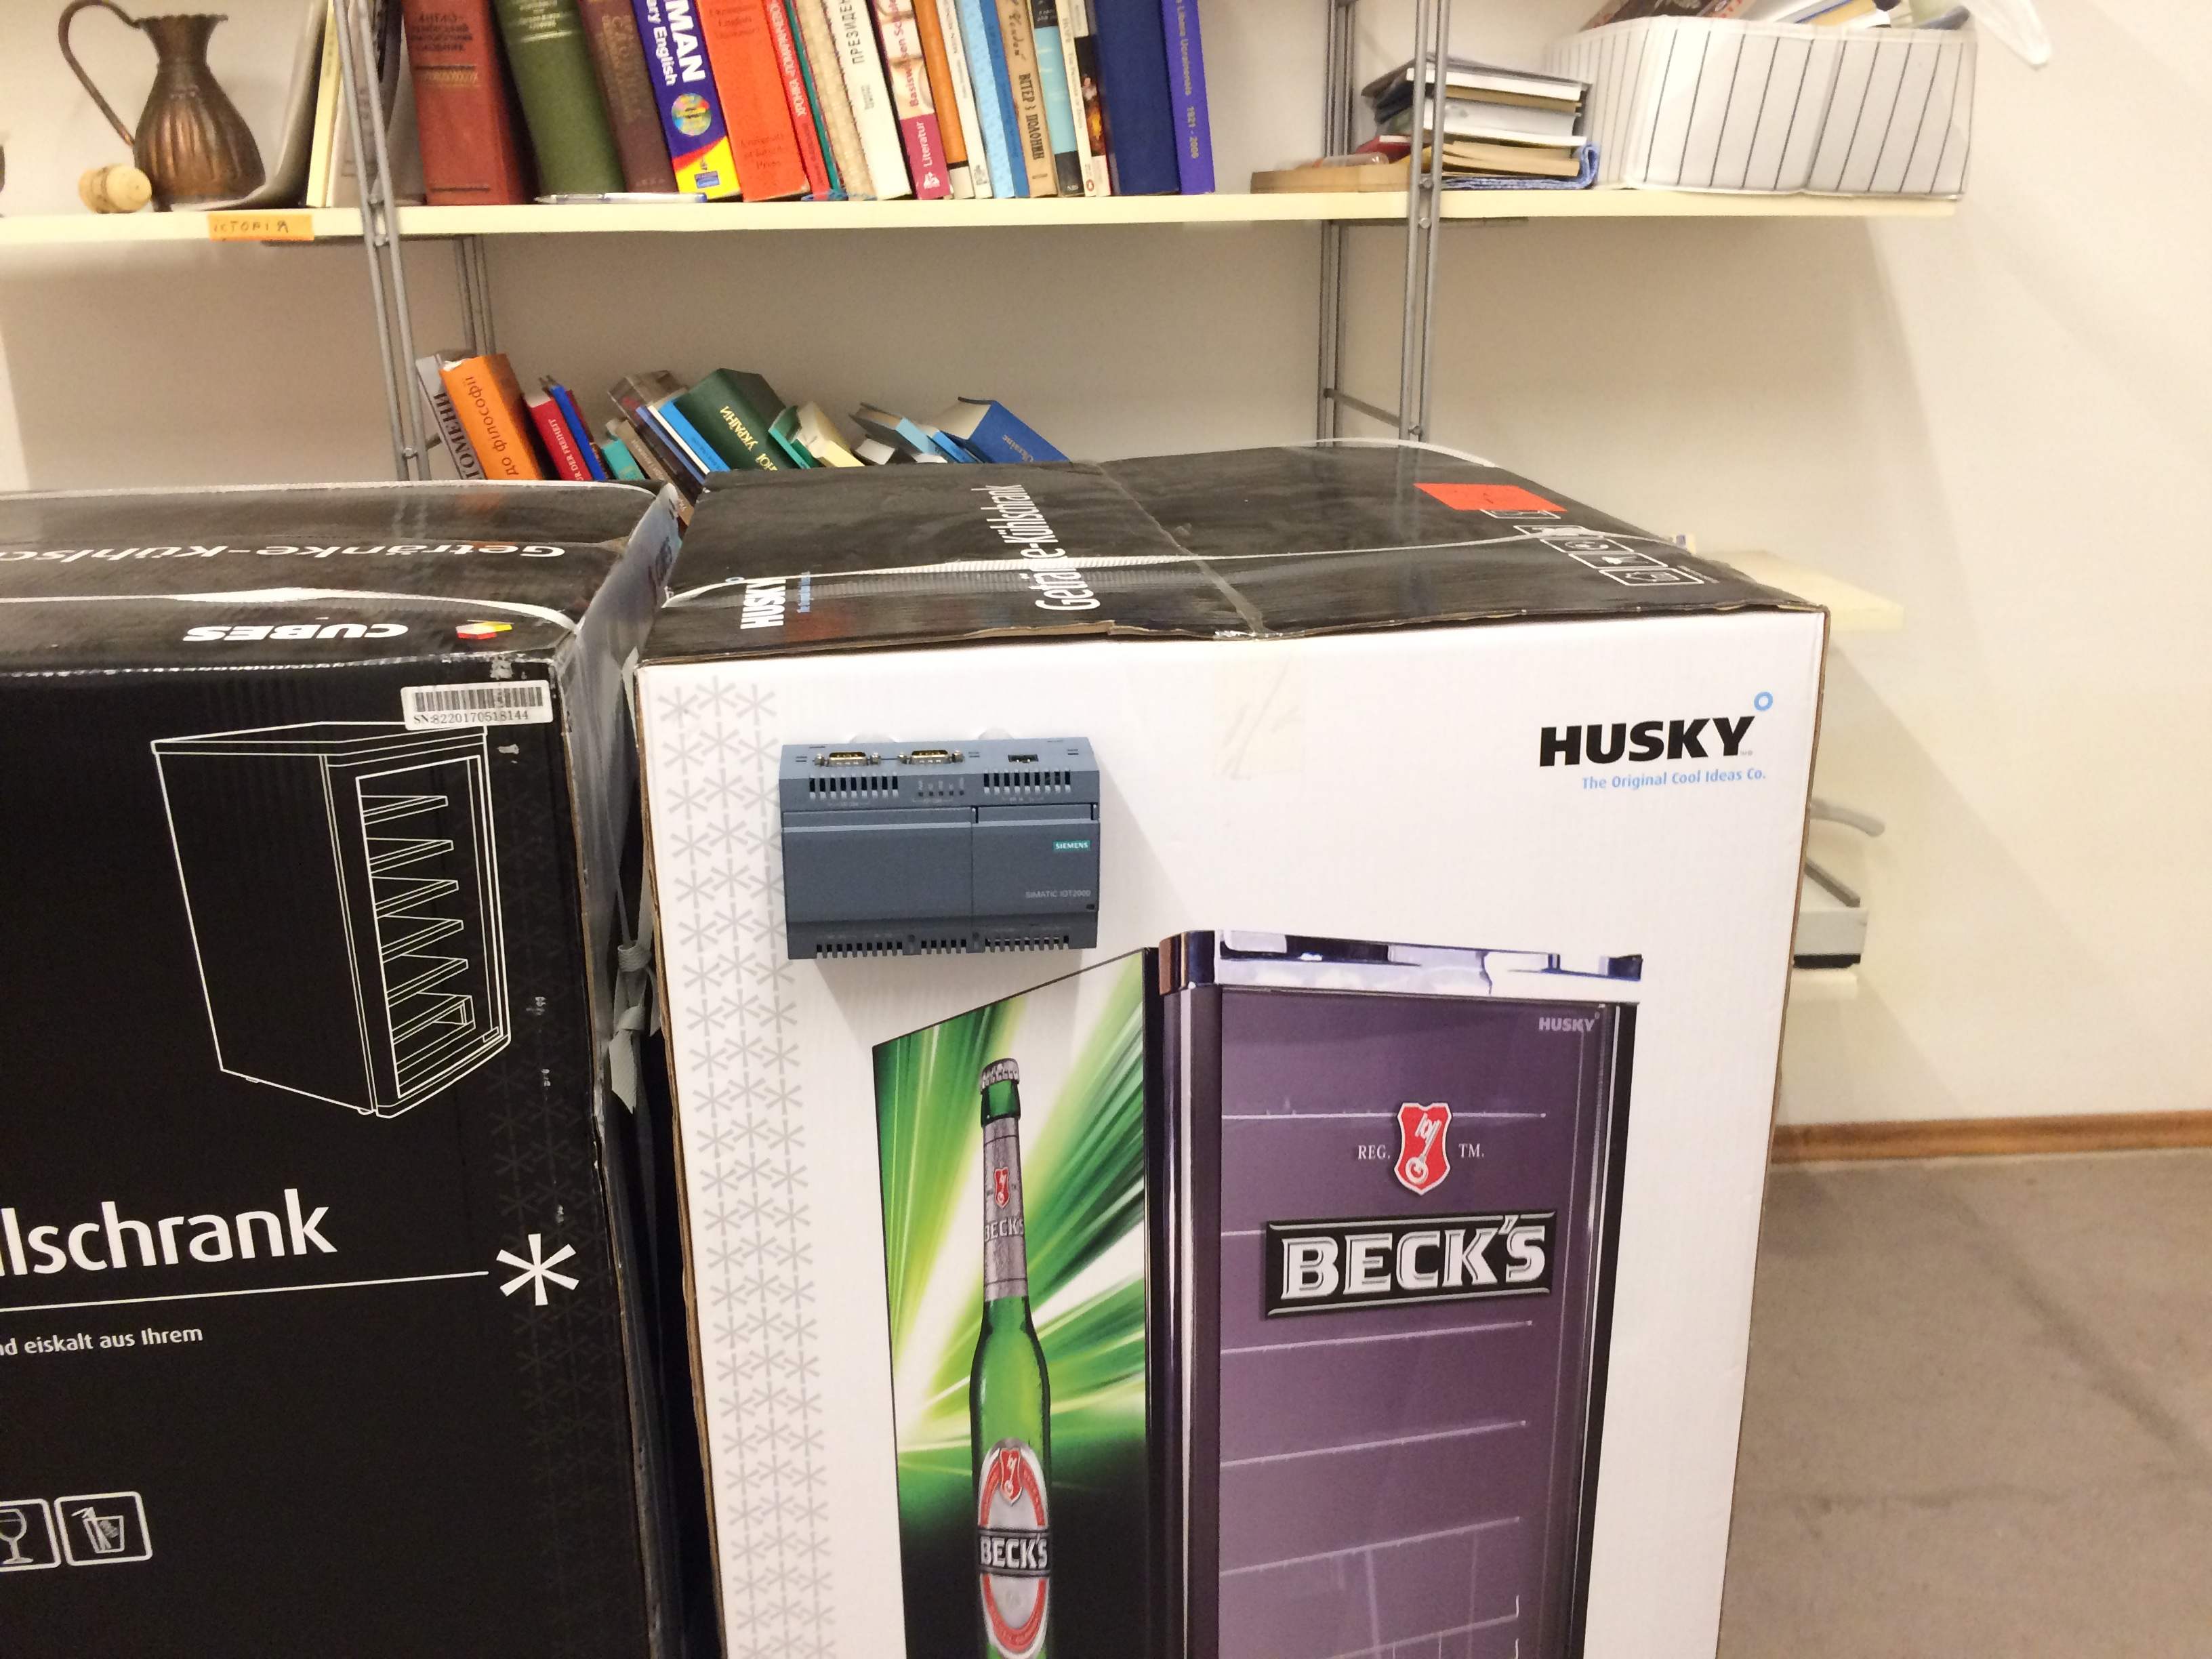iot2000: (775, 735, 1106, 964)
